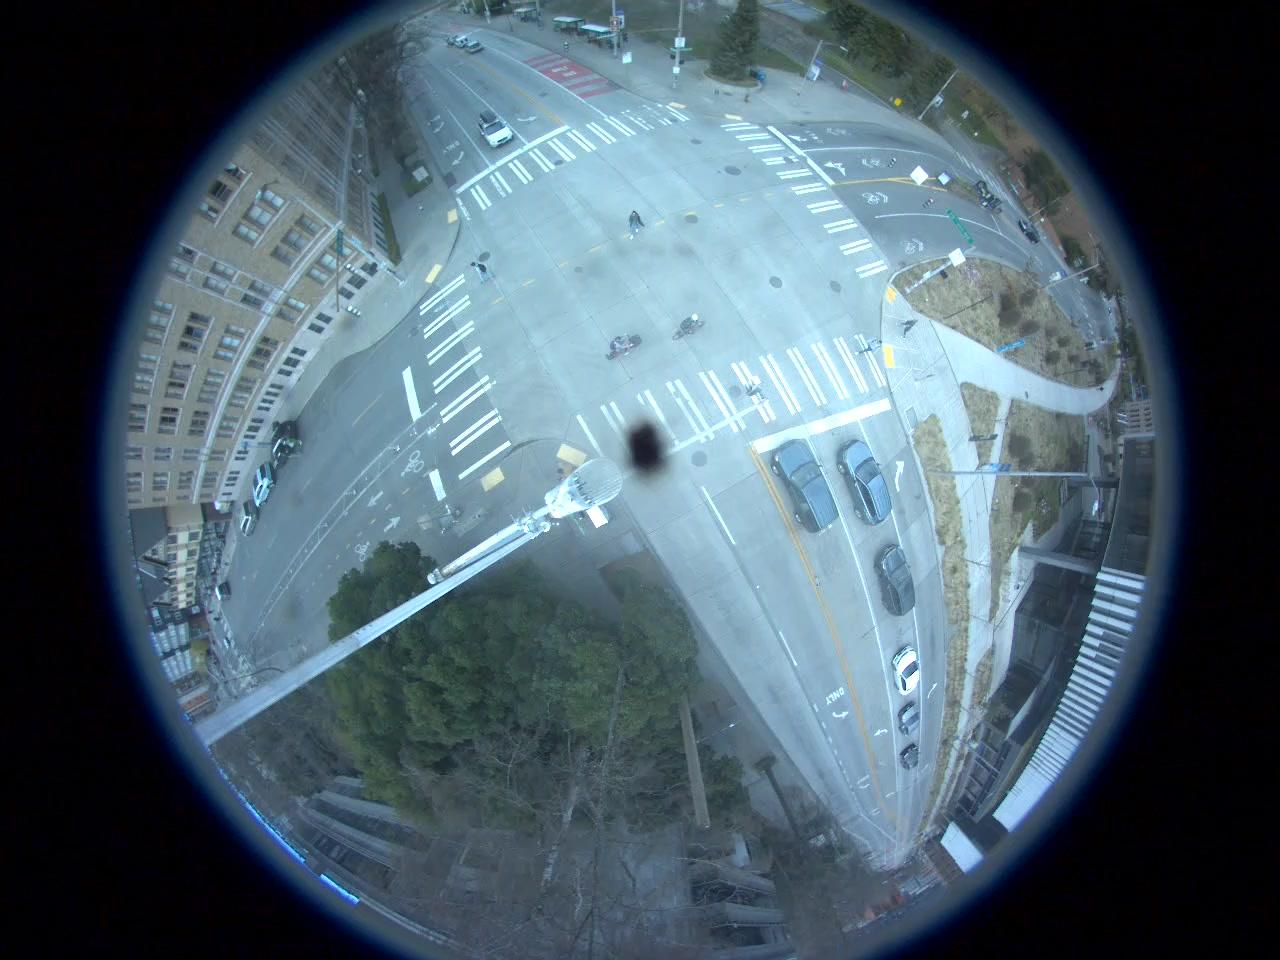bicycle: (672, 313, 712, 342), (600, 334, 646, 357)
car: (769, 434, 840, 535), (842, 440, 890, 527), (874, 540, 922, 618), (892, 642, 922, 696), (269, 420, 301, 470), (479, 109, 511, 145), (253, 462, 277, 505), (236, 500, 260, 539), (896, 740, 922, 774), (898, 699, 921, 737), (1016, 220, 1040, 244)
person: (623, 206, 648, 244), (468, 257, 500, 285), (896, 316, 924, 342), (856, 338, 884, 356), (552, 464, 574, 485)
